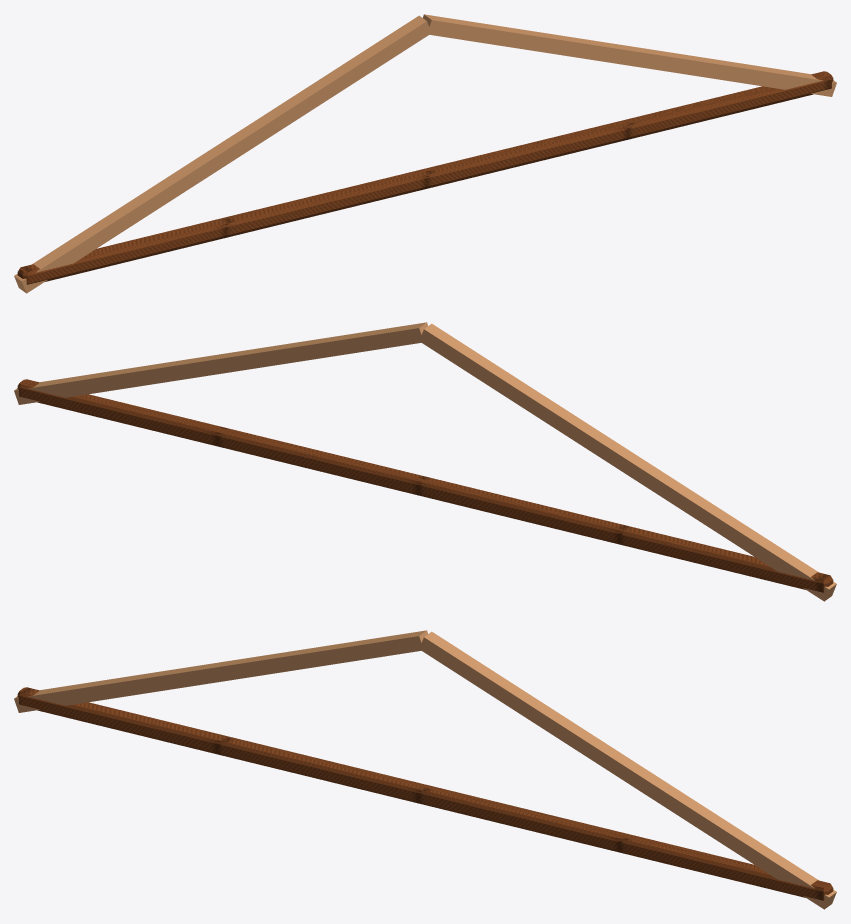
File: ocean-raft-settlement-ocean-raft-settlement-roof-end-c-4423114b__28906.glb
The picture shows the model from 3 angles, top to bottom: view 1: azimuth 30°, elevation 25°; view 2: azimuth 150°, elevation 25°; view 3: azimuth 330°, elevation 25°; orthographic projection.
Visible parts, largest first — view 1: copper, wood; view 2: copper, wood; view 3: copper, wood.
Part boxes in pixels (box(x1,y1,x2,y2)): copper: box(14, 14, 836, 293); wood: box(17, 71, 833, 284); copper: box(14, 322, 836, 601); wood: box(17, 379, 833, 592); copper: box(14, 630, 836, 909); wood: box(17, 687, 833, 900).
Bounding box in the file's own units: 4.22 × 0.8654 × 0.0749.
2 materials, 1 textured.
